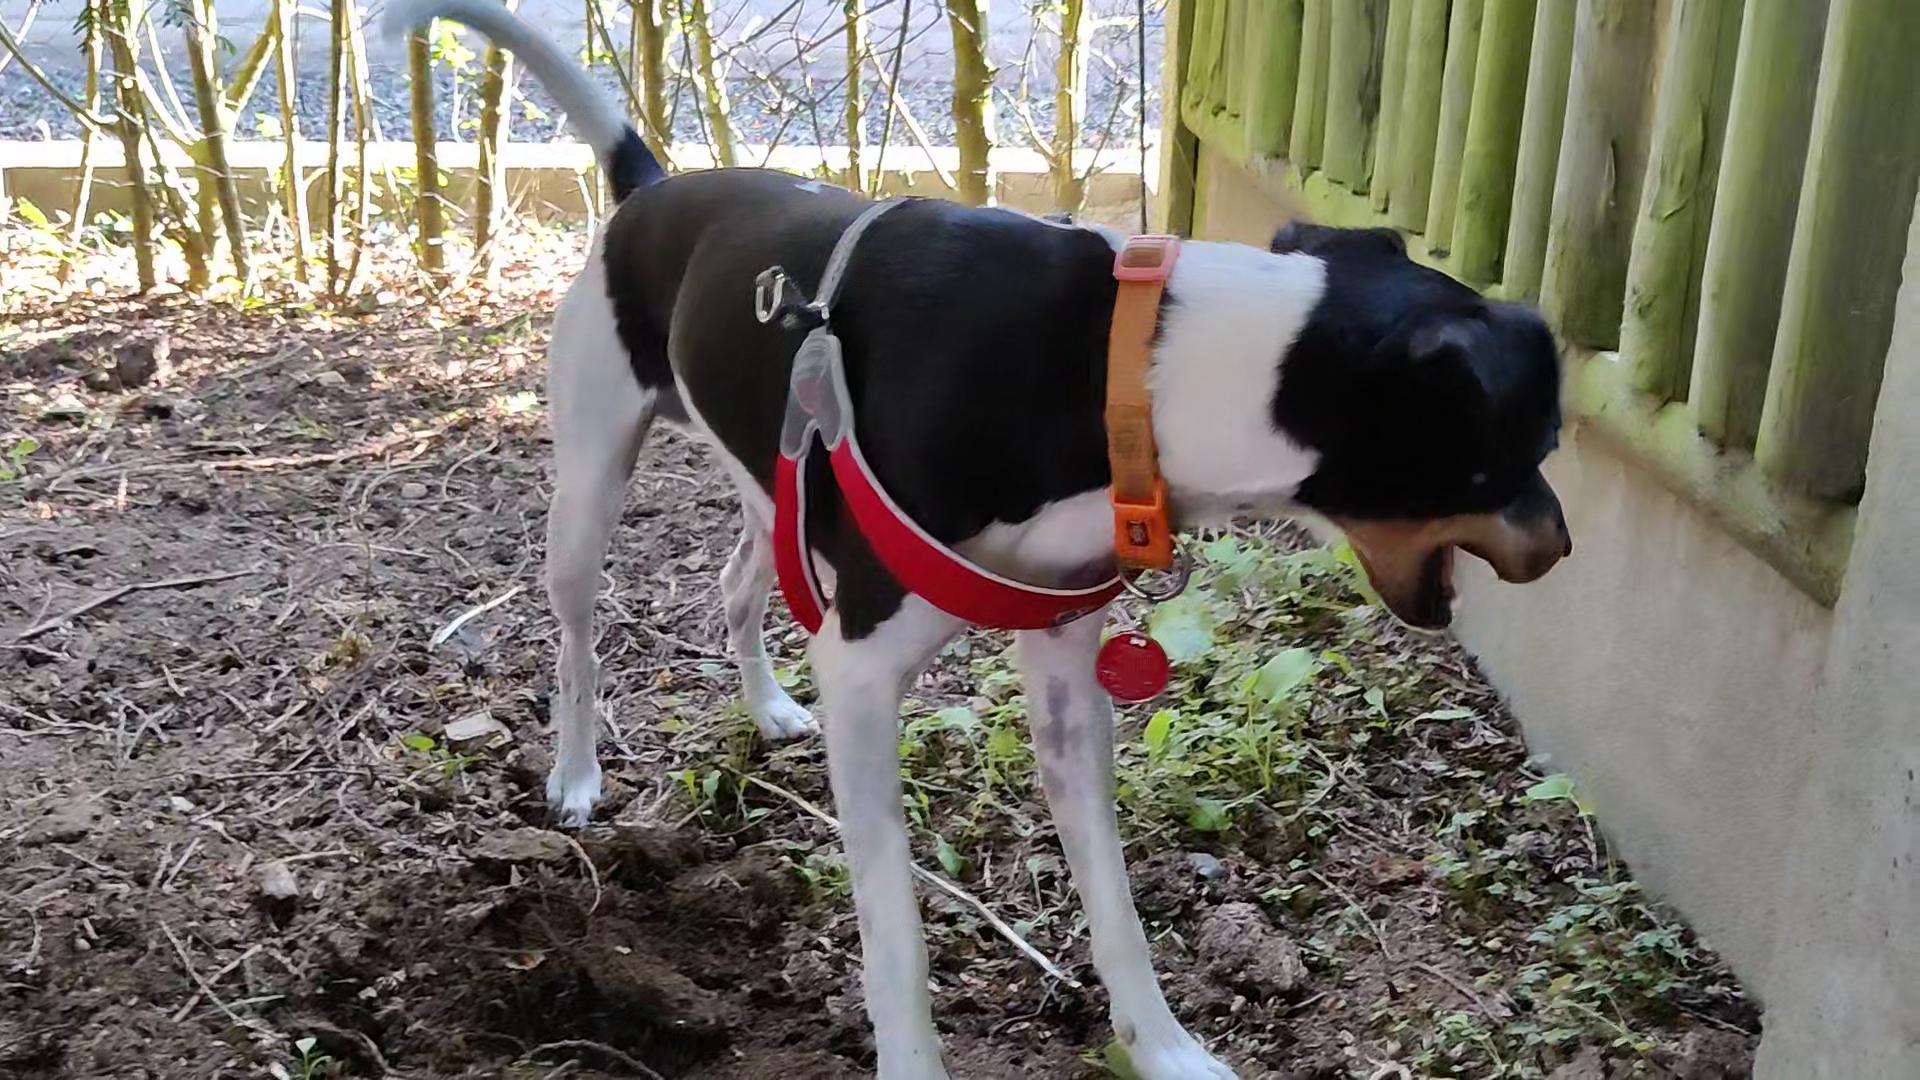Dog: (375, 0, 1578, 1079)
